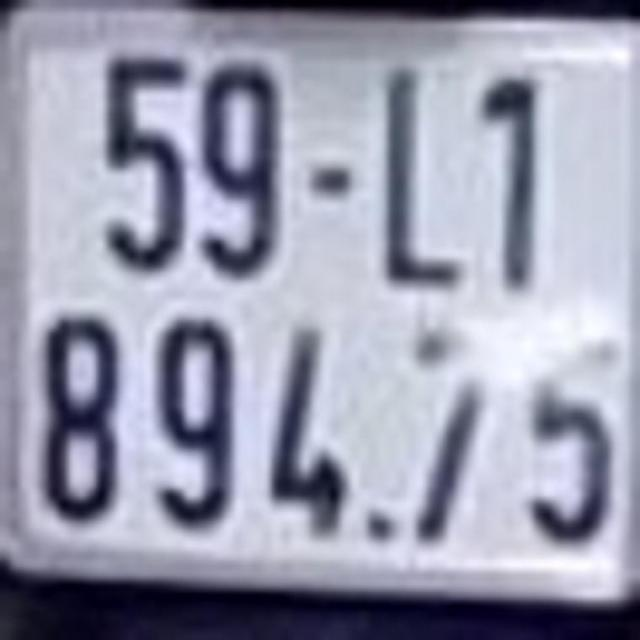1: (478, 56, 542, 296)
4: (265, 316, 355, 540)
5: (522, 316, 621, 550), (101, 48, 190, 277)
7: (406, 318, 493, 542)
8: (34, 308, 122, 524)
9: (150, 309, 240, 530), (200, 52, 284, 282)
L: (368, 55, 469, 292)
